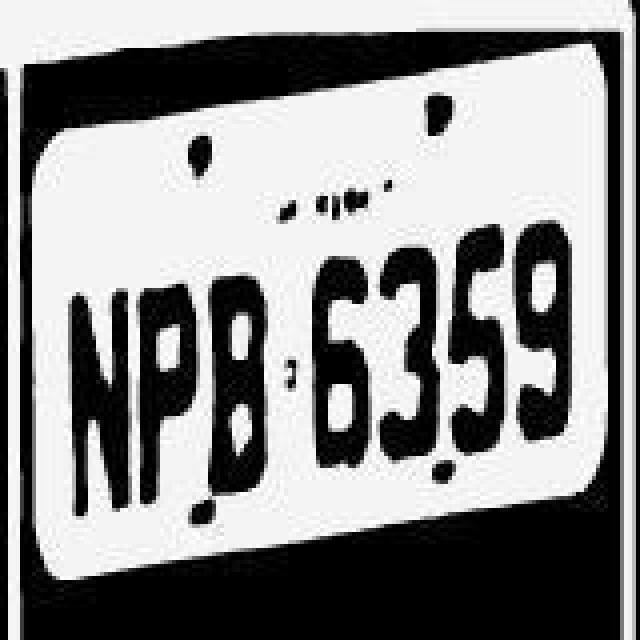3: (378, 246, 446, 458)
5: (446, 226, 514, 454)
6: (304, 246, 376, 474)
9: (512, 190, 584, 466)
B: (204, 252, 276, 500)
N: (64, 284, 136, 532)
P: (132, 272, 204, 512)
